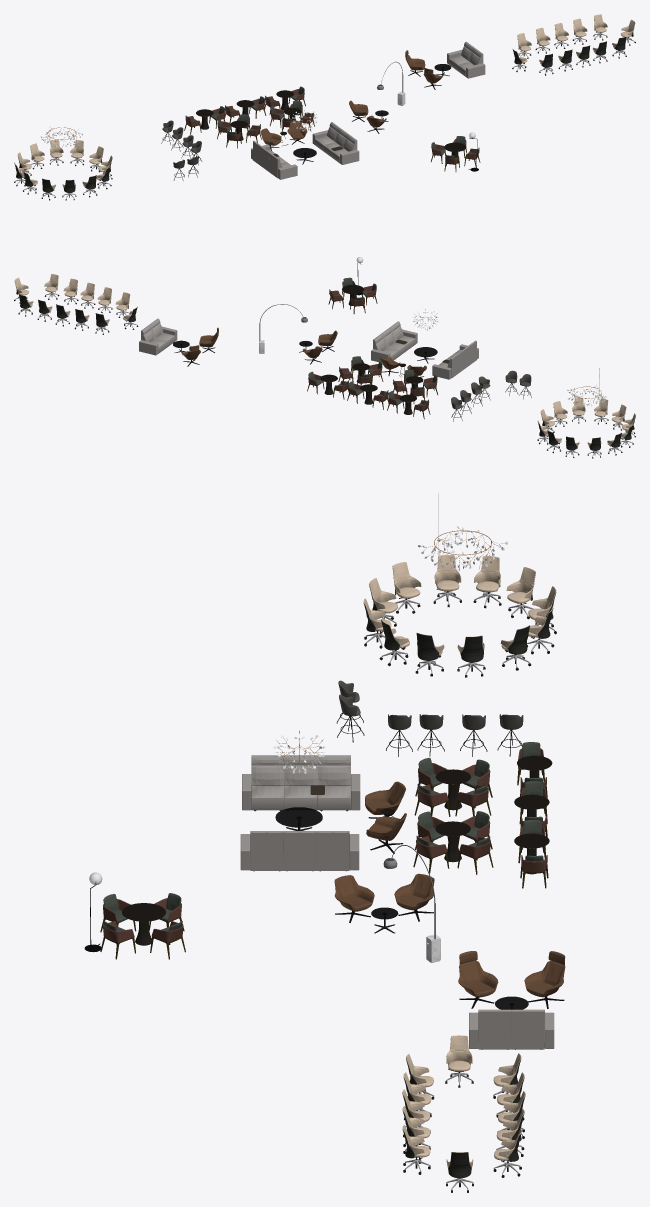
File: ELJ_BEST.glb
3 renders of one model, top to bottom at view 1: azimuth 30°, elevation 25°; view 2: azimuth 150°, elevation 25°; view 3: azimuth 270°, elevation 25°, orthographic. The views are drawn at different scales.
Parts seen in each view (by area): view 1: I2.002; view 2: no part large enough to name; view 3: I9, I9.001, I4.006, I4.007, I4, I4.001, I4.002, I2, I4.004, I4.005, I2.003, I4.003.
Boxes of the visible parts, <box> form: I2.002: <box>287,121,307,139</box>; I9: <box>458,951,498,997</box>; I9.001: <box>524,951,565,997</box>; I4.006: <box>478,1009,511,1042</box>; I4.007: <box>511,1009,544,1042</box>; I4: <box>283,831,316,863</box>; I4.001: <box>250,831,283,863</box>; I4.002: <box>316,831,349,863</box>; I2: <box>334,875,374,911</box>; I4.004: <box>317,755,350,785</box>; I4.005: <box>251,755,284,785</box>; I2.003: <box>394,873,434,910</box>; I4.003: <box>284,755,317,785</box>.
Size of the model in its own units: 31.88 by 6.5 by 10.83.
28 materials, 15 textured.
